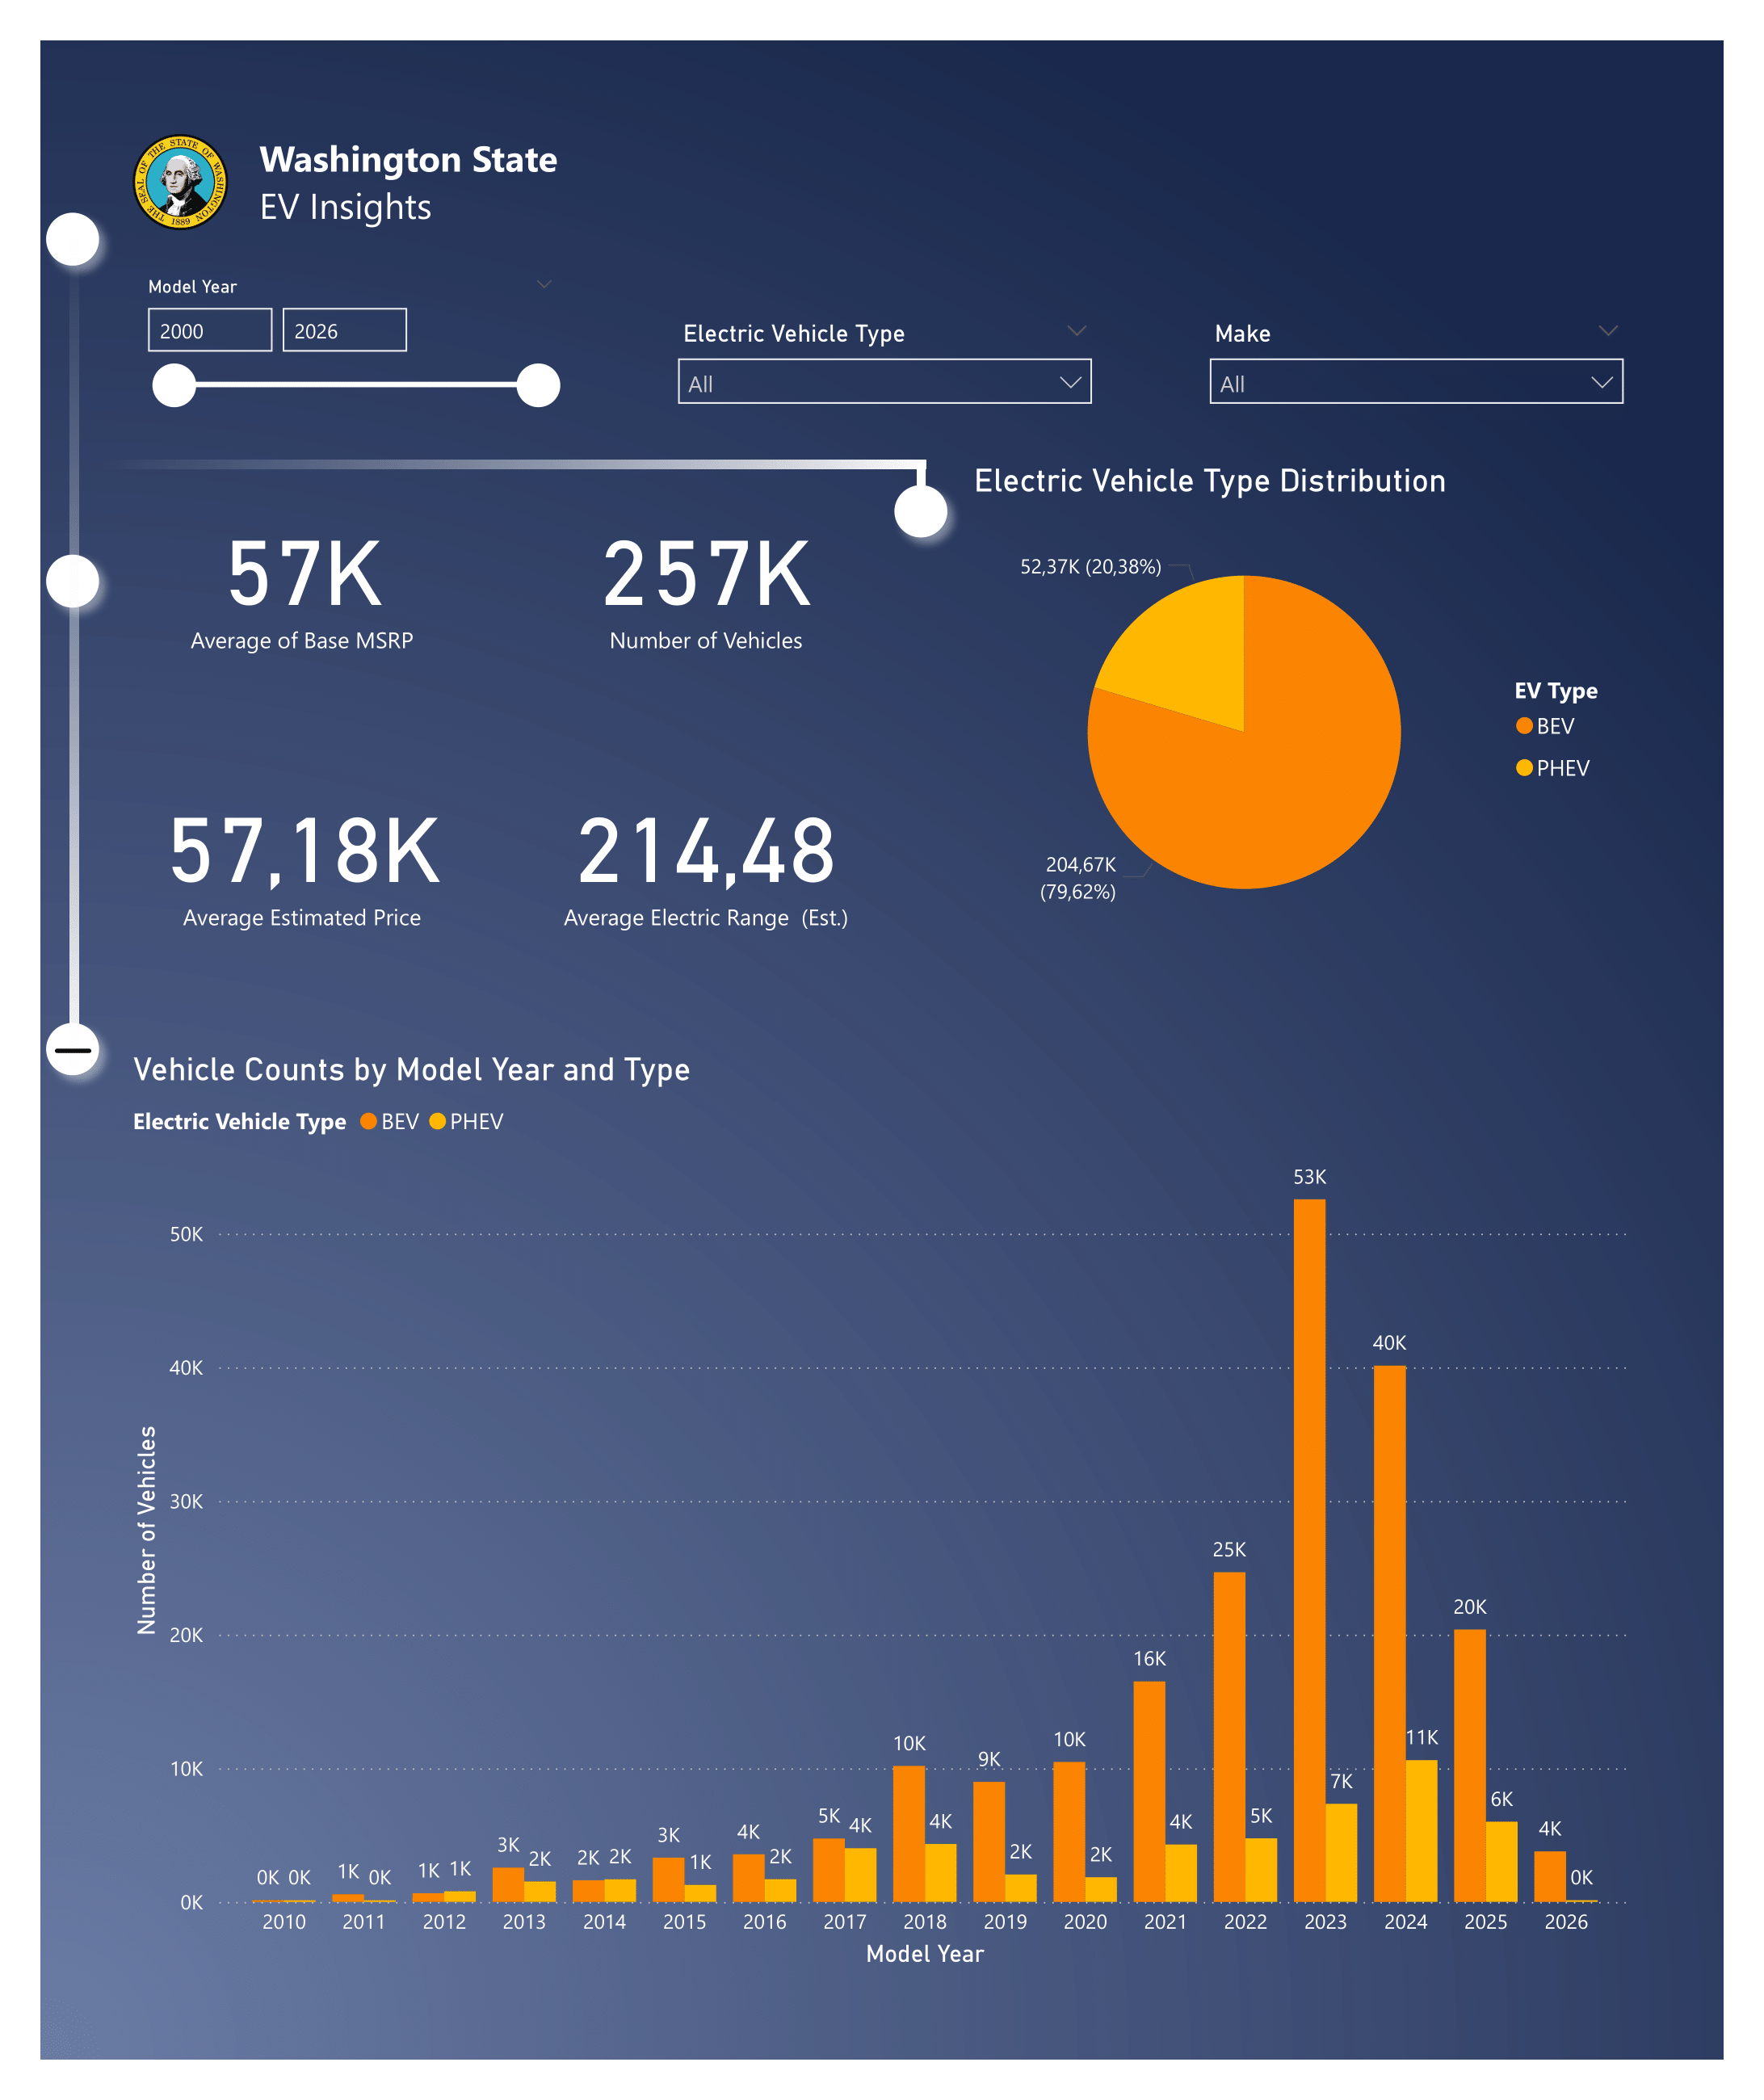

Layout of this report page (visuals, bound fields, positions):
{"tool":"powerbi","page":{"name":"Overview","canvas":[1000,1200],"ordinal":0},"visuals":[{"type":"actionButton","title":"tree","box":[0,62.5,550,600],"z":0},{"type":"card","fields":{"Values":["Electric_Vehicle_Population_Data.Total Vehicles"]},"box":[290.6,250.6,209.4,135.3],"z":1000},{"type":"card","fields":{"Values":["Avg(Electric_Vehicle_Population_Data.Electric Range - Estimated)"]},"box":[290.6,415.3,209.4,135.3],"z":2000},{"type":"card","title":"Card","fields":{"Values":["Avg(Electric_Vehicle_Population_Data.Base MSRP - Copy)"]},"box":[50.6,415.3,209.4,135.3],"z":3000},{"type":"card","fields":{"Values":["Avg(Electric_Vehicle_Population_Data.Base MSRP)"]},"box":[50.6,250.6,209.4,135.3],"z":4000},{"type":"pieChart","title":"Electric Vehicle Type Distribution","fields":{"Category":["Electric_Vehicle_Population_Data.Electric Vehicle Type"],"Y":["CountNonNull(Electric_Vehicle_Population_Data.Electric Vehicle Type)"]},"box":[550,250,400,300],"z":5000},{"type":"clusteredColumnChart","title":"Vehicle Counts by Model Year and Type","fields":{"Y":["CountNonNull(Electric_Vehicle_Population_Data.Electric Vehicle Type)"],"Series":["Electric_Vehicle_Population_Data.Electric Vehicle Type"],"Category":["Electric_Vehicle_Population_Data.Model Year"]},"box":[50,600,900,550],"z":6000},{"type":"slicer","fields":{"Values":["Electric_Vehicle_Population_Data.Model Year"]},"box":[50.6,135.3,266,96.5],"z":7000},{"type":"slicer","fields":{"Values":["Sorting Table.Make"]},"box":[684.7,161.2,265.9,70.6],"z":8000},{"type":"slicer","fields":{"Values":["Electric_Vehicle_Population_Data.Electric Vehicle Type"]},"box":[369.4,161.2,266,70.6],"z":9000},{"type":"textbox","box":[125,50,234.1,67.6],"z":10000},{"type":"image","title":"logo","box":[50,50,67,67.5],"z":11000},{"type":"textbox","title":"title","box":[1108.6,22.9,127.1,38.6],"z":12000},{"type":"actionButton","title":"minus","box":[9,588,21,24],"z":13000}]}

Visuals, with their boxes in screenshot pixels (x1, y1, x2, y2):
"tree" actionButton: left=40, top=145, right=966, bottom=1155
card - Electric_Vehicle_Population_Data.Total Vehicles: left=530, top=462, right=882, bottom=690
card - Avg(Electric_Vehicle_Population_Data.Electric Range - Estimated): left=530, top=739, right=882, bottom=967
"Card" card: left=125, top=739, right=478, bottom=967
card - Avg(Electric_Vehicle_Population_Data.Base MSRP): left=125, top=462, right=478, bottom=690
"Electric Vehicle Type Distribution" pieChart: left=966, top=461, right=1640, bottom=966
"Vehicle Counts by Model Year and Type" clusteredColumnChart: left=124, top=1050, right=1640, bottom=1976
slicer - Electric_Vehicle_Population_Data.Model Year: left=125, top=268, right=573, bottom=430
slicer - Sorting Table.Make: left=1193, top=312, right=1640, bottom=430
slicer - Electric_Vehicle_Population_Data.Electric Vehicle Type: left=662, top=312, right=1110, bottom=430
textbox: left=251, top=124, right=645, bottom=238
"logo" image: left=124, top=124, right=237, bottom=238
"minus" actionButton: left=56, top=1030, right=91, bottom=1070
